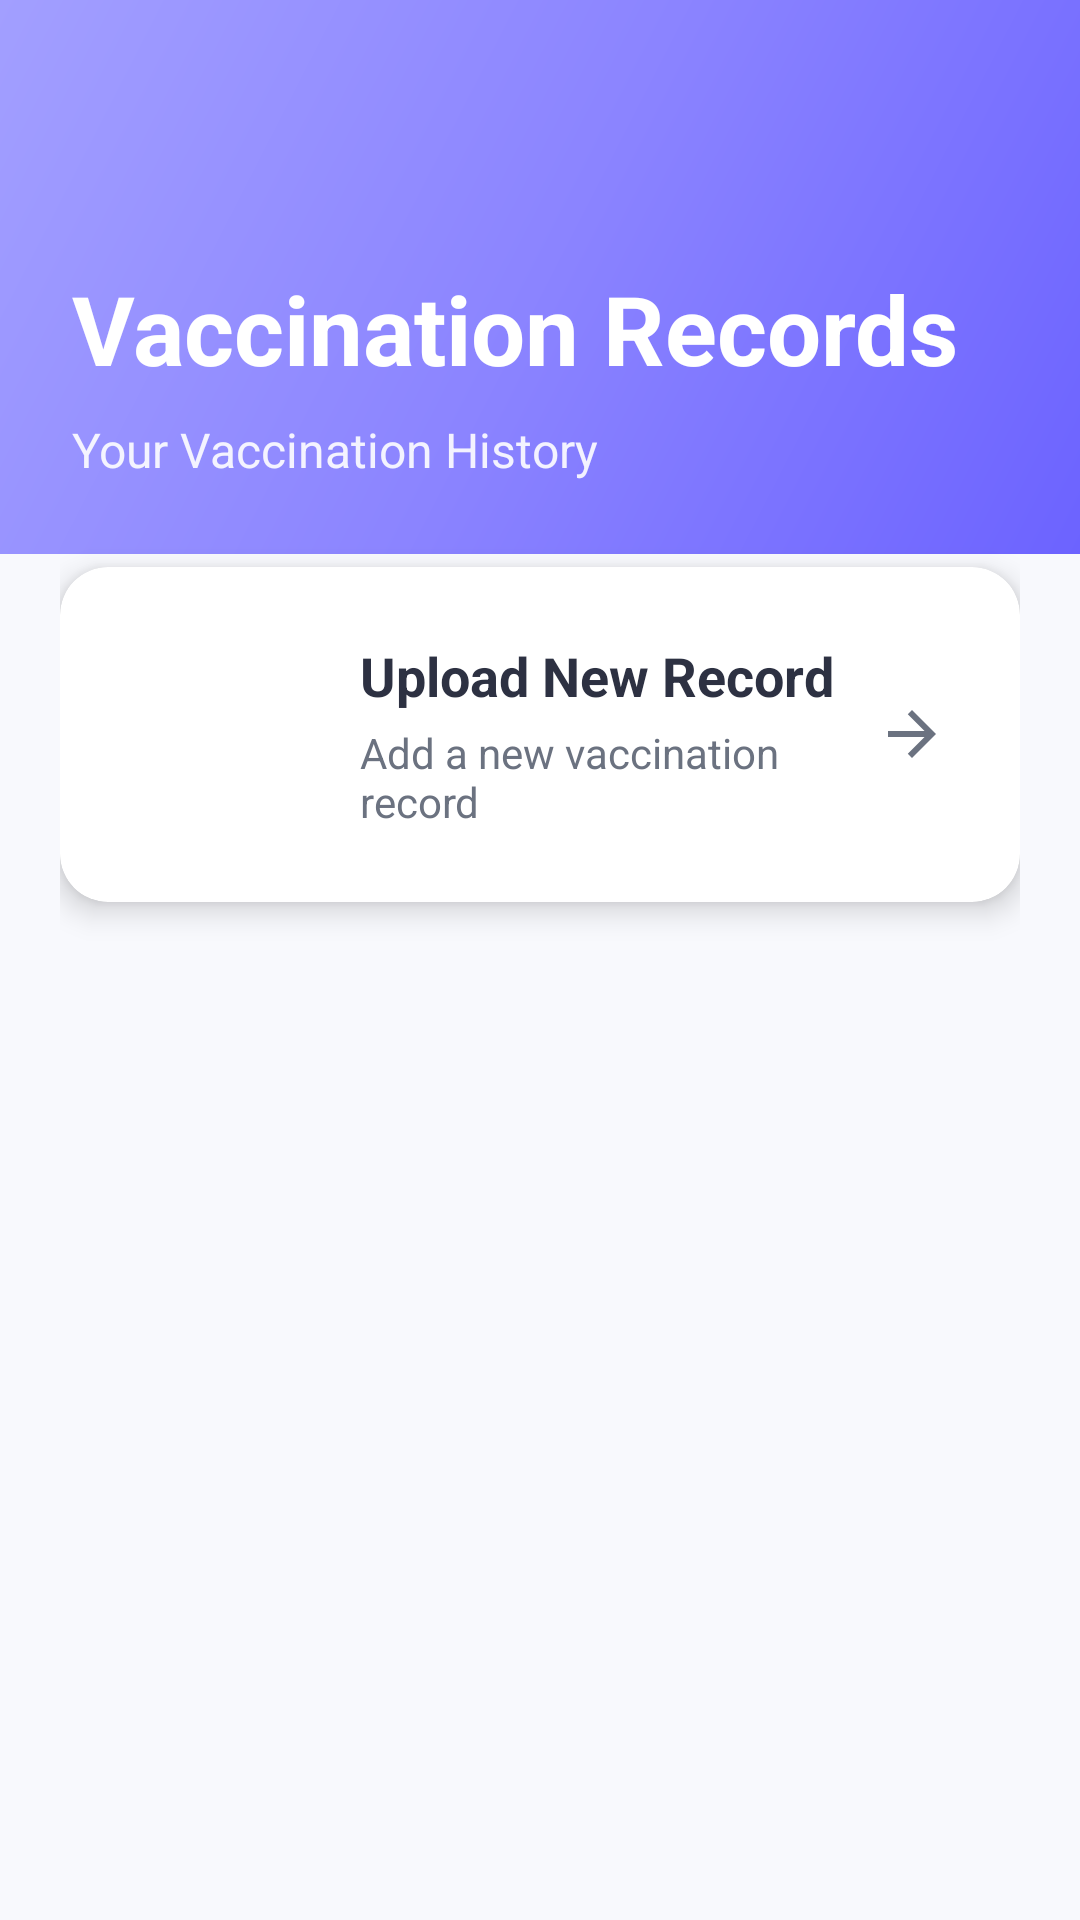

Named icons in this screenshot (1080*1920) and their centers, [x,y]:
arrow forward: [912,734]
